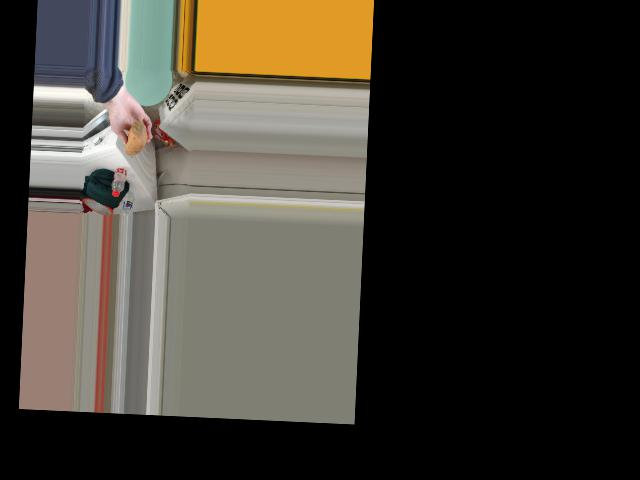sweet_potato: (127, 116, 146, 157)
